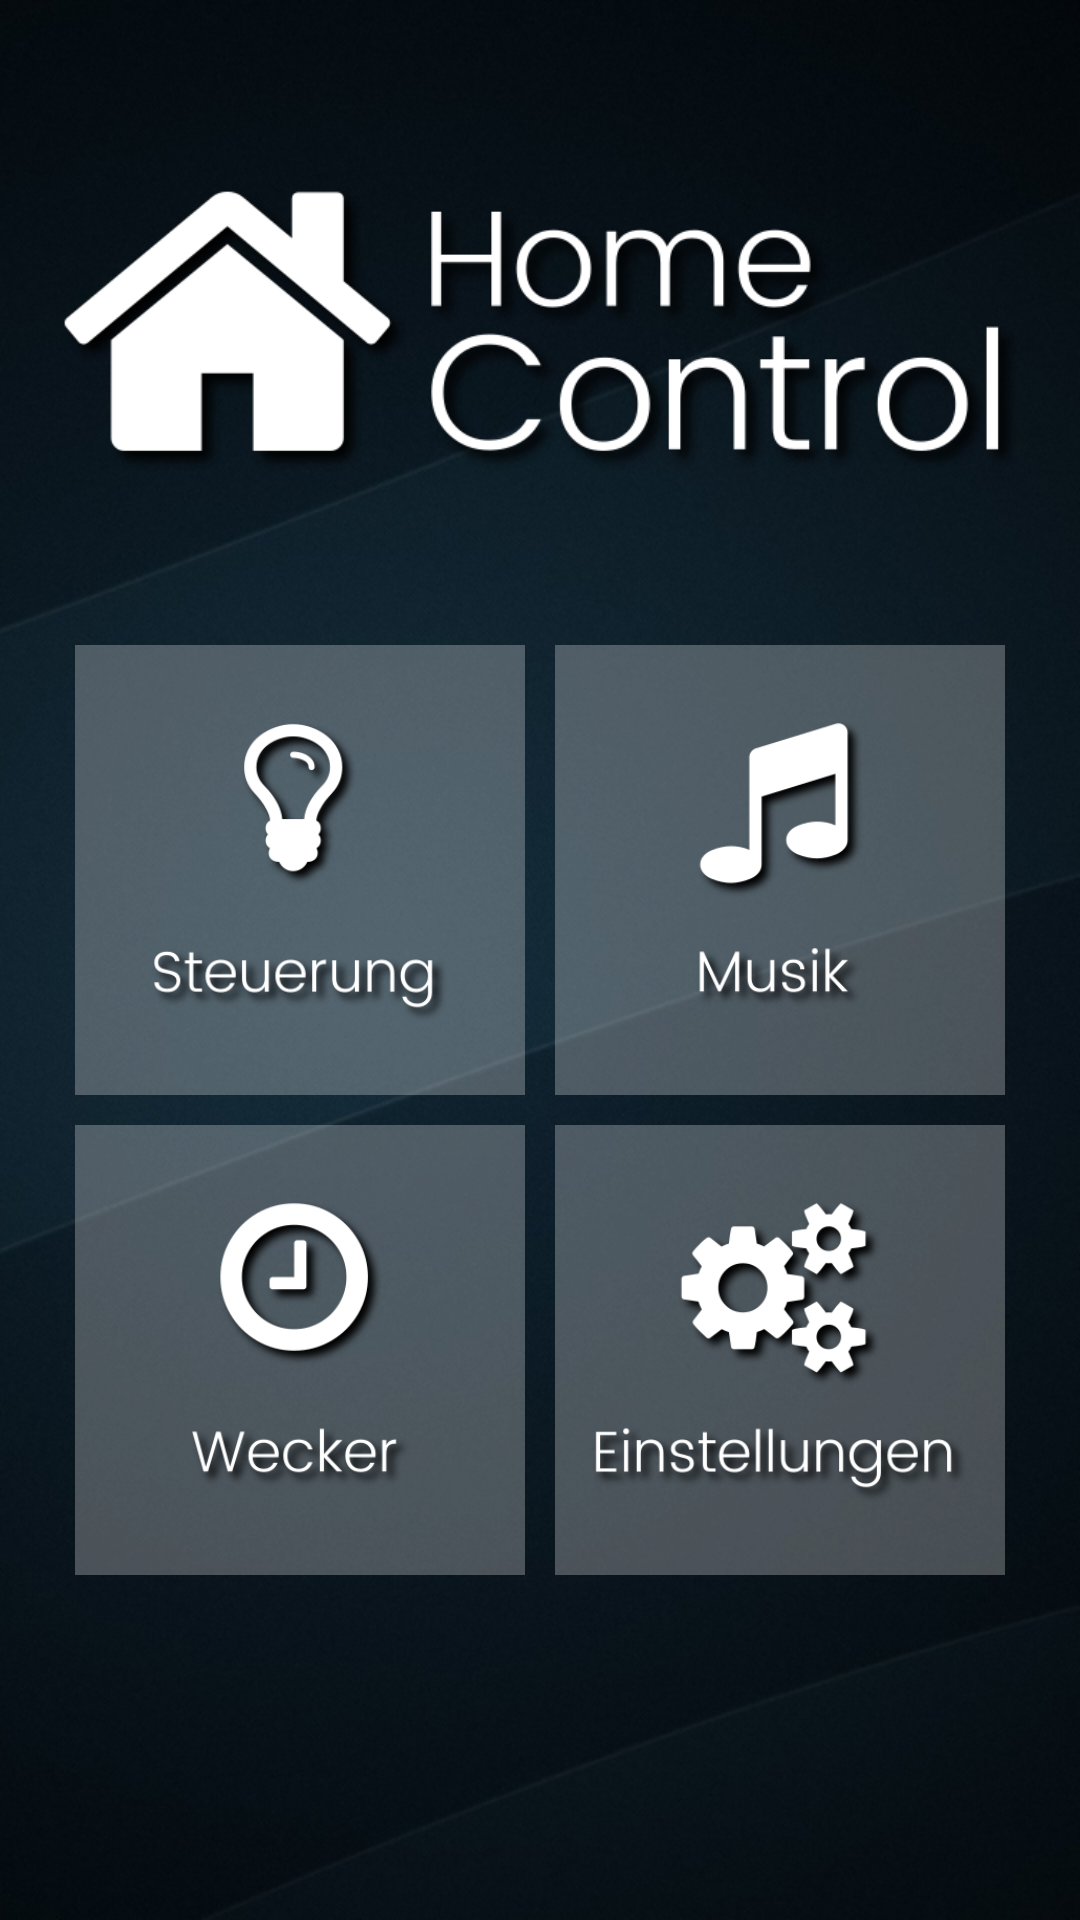

Screen size 1080*1920. Icon name, then its center in pixels as (x,y):
startscreen timer: (297,1341)
